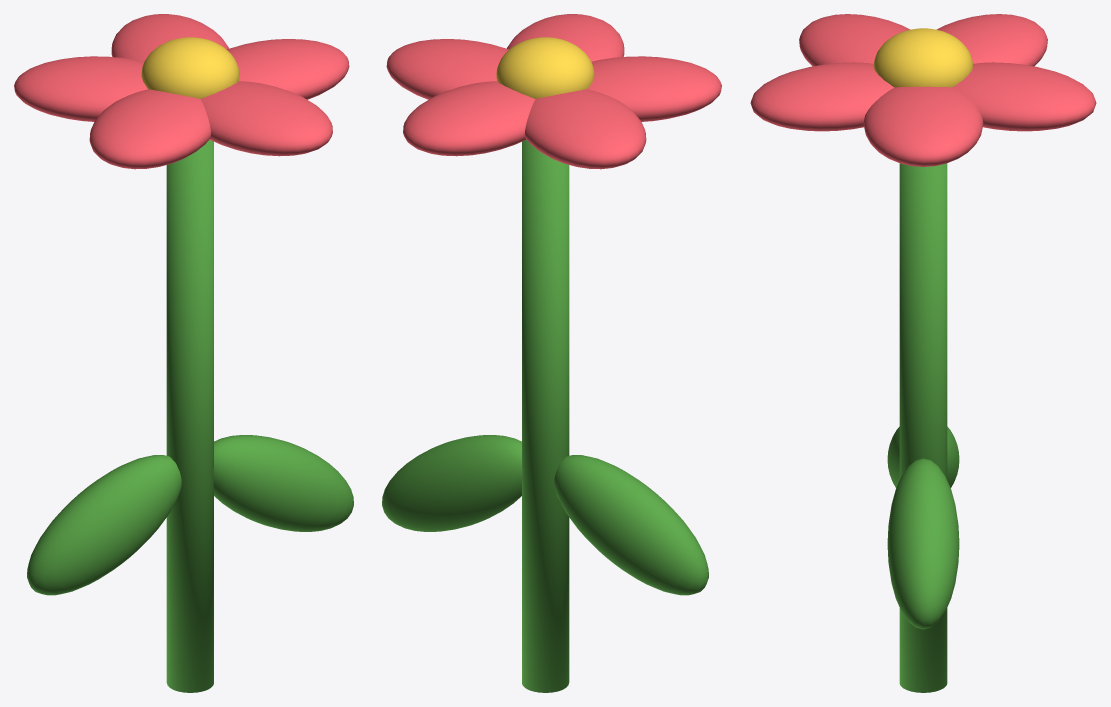
Rendered from flower_red.glb.
The picture shows the model from 3 angles, left to right: view 1: azimuth 30°, elevation 25°; view 2: azimuth 150°, elevation 25°; view 3: azimuth 270°, elevation 25°; orthographic projection.
Visible parts, largest first — view 1: flower_red; view 2: flower_red; view 3: flower_red.
Part boxes in pixels (box(x1,y1,x2,y2)): flower_red: box(14, 14, 353, 692); flower_red: box(382, 14, 721, 692); flower_red: box(750, 14, 1096, 692).
Size of the model in its own units: 0.1891 by 0.358 by 0.1732.
